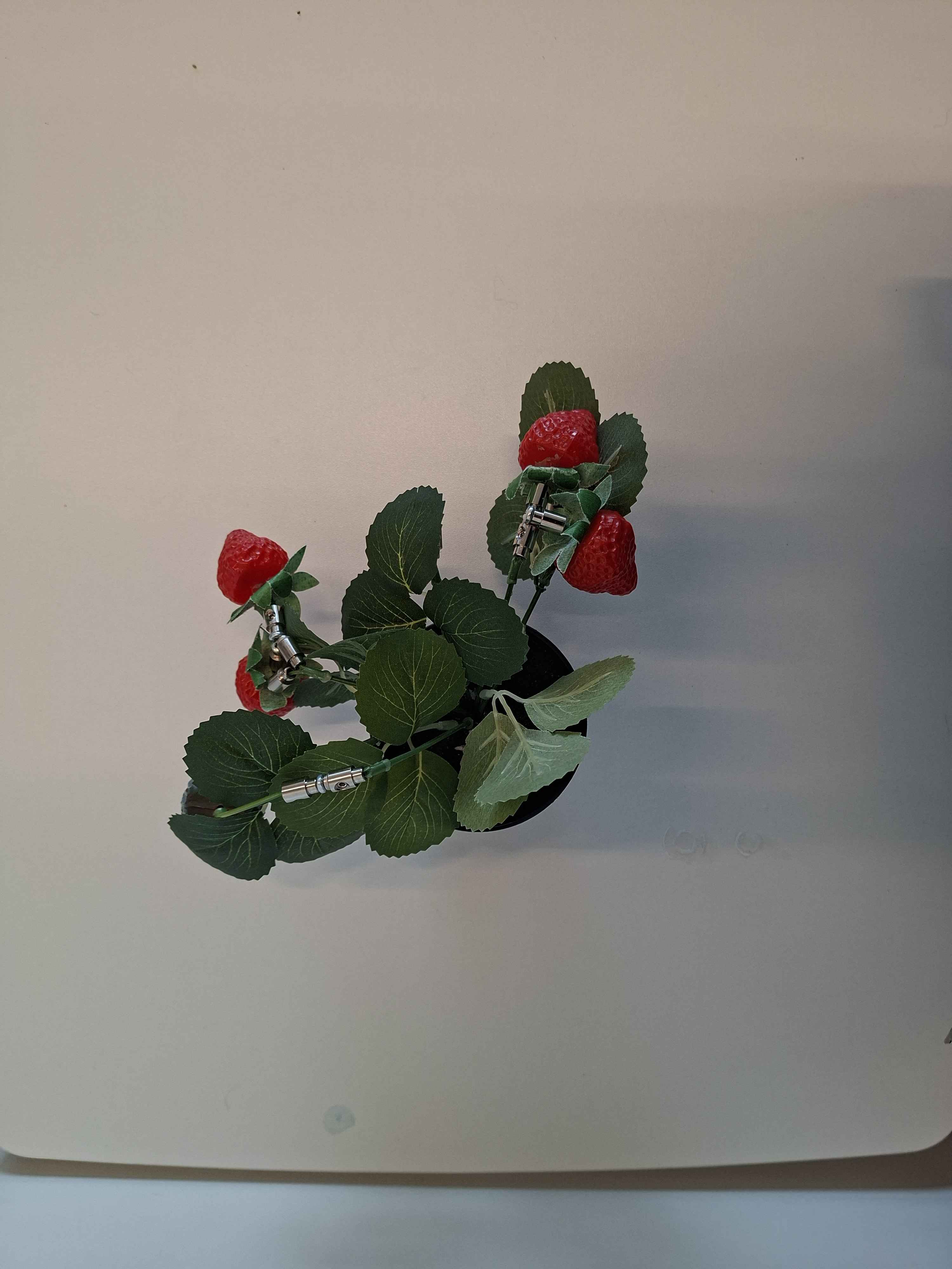Strawberry: (202, 515, 308, 623), (506, 403, 612, 492), (553, 510, 650, 606), (222, 655, 308, 720)
